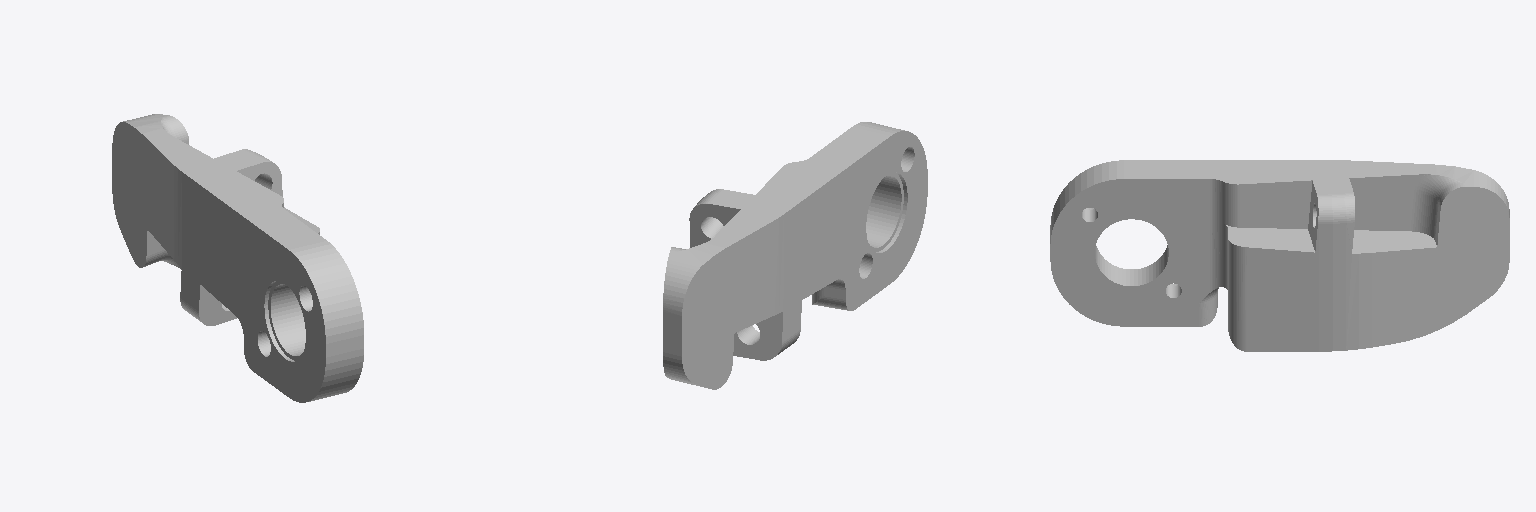
3 views of the same model, side by side, from view 1: azimuth 30°, elevation 25°; view 2: azimuth 150°, elevation 25°; view 3: azimuth 270°, elevation 25° (orthographic).
Visible parts, largest first — view 1: mesh19, mesh56, mesh43, mesh6, mesh14, mesh5, mesh29, mesh33, mesh36; view 2: mesh19, mesh56, mesh43, mesh14, mesh34, mesh51, mesh42, mesh33, mesh52, mesh50; view 3: mesh3, mesh53, mesh35, mesh43, mesh41, mesh44, mesh23, mesh26, mesh21, mesh24, mesh45, mesh6 (+5 smaller).
Boxes of the visible parts, <box> form: mesh19: <box>182,172,325,402</box>; mesh56: <box>112,122,173,267</box>; mesh43: <box>143,129,326,249</box>; mesh6: <box>289,241,363,343</box>; mesh14: <box>271,284,305,355</box>; mesh5: <box>309,349,363,401</box>; mesh29: <box>199,285,236,325</box>; mesh33: <box>174,166,181,298</box>; mesh36: <box>237,162,282,196</box>; mesh19: <box>784,131,927,340</box>; mesh56: <box>682,220,774,389</box>; mesh43: <box>706,127,889,247</box>; mesh14: <box>866,176,901,247</box>; mesh34: <box>733,312,782,360</box>; mesh51: <box>663,257,701,315</box>; mesh42: <box>689,204,740,247</box>; mesh33: <box>775,215,783,342</box>; mesh52: <box>663,312,681,356</box>; mesh50: <box>669,243,724,264</box>; mesh3: <box>1050,179,1209,326</box>; mesh53: <box>1372,187,1509,347</box>; mesh35: <box>1247,224,1318,351</box>; mesh43: <box>1124,160,1435,194</box>; mesh41: <box>1319,222,1371,351</box>; mesh44: <box>1349,174,1420,230</box>; mesh23: <box>1240,180,1312,228</box>; mesh26: <box>1228,240,1246,351</box>; mesh21: <box>1210,179,1227,292</box>; mesh24: <box>1226,225,1314,252</box>; mesh45: <box>1352,230,1436,253</box>; mesh6: <box>1050,160,1123,243</box>.
Size of the model in its own units: 0.014 by 0.022 by 0.062.